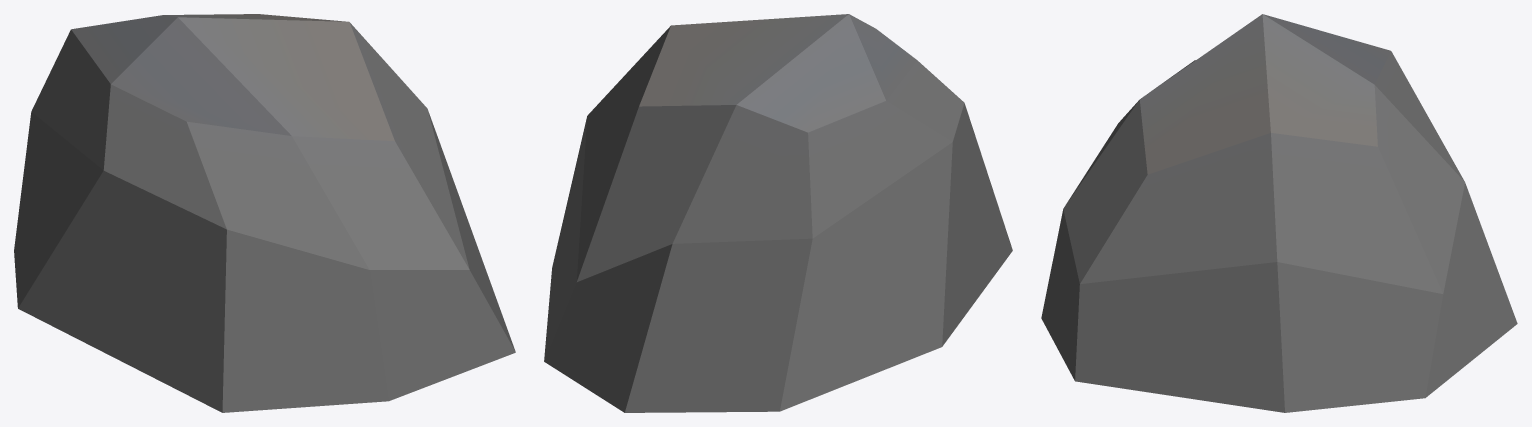
The model's file is Rock.fbx.
The picture shows the model from 3 angles, left to right: view 1: azimuth 30°, elevation 25°; view 2: azimuth 150°, elevation 25°; view 3: azimuth 270°, elevation 25°; orthographic projection. The views are drawn at different scales.
Parts seen in each view (by area): view 1: Rock2; view 2: Rock2; view 3: Rock2.
Boxes of the visible parts, box(x1,y1,x2,y2) form: Rock2: box(14, 14, 515, 412); Rock2: box(544, 14, 1012, 412); Rock2: box(1041, 14, 1517, 412).
Size of the model in its own units: 185 by 143 by 211.
